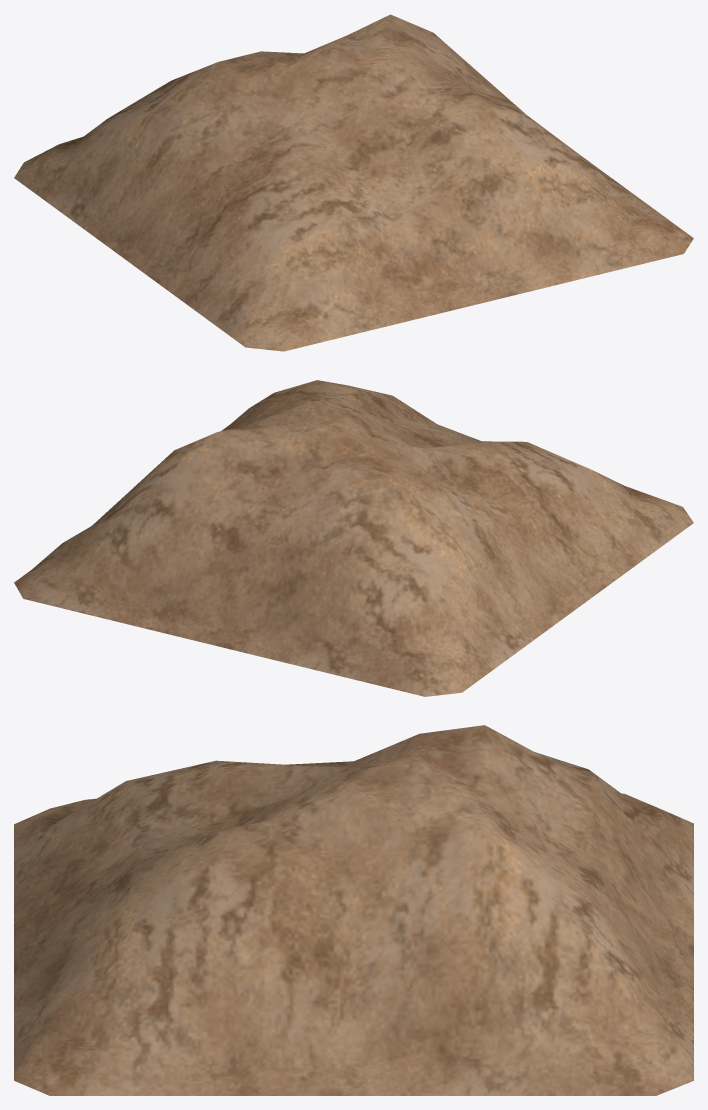
File: Sand slide 1.fbx
The picture shows the model from 3 angles, top to bottom: view 1: azimuth 30°, elevation 25°; view 2: azimuth 150°, elevation 25°; view 3: azimuth 270°, elevation 25°; orthographic projection. The views are drawn at different scales.
Visible parts, largest first — view 1: Deslizamento 1; view 2: Deslizamento 1; view 3: Deslizamento 1.
Part boxes in pixels (left/top/right/bottom): Deslizamento 1: left=14, top=14, right=693, bottom=351; Deslizamento 1: left=14, top=380, right=693, bottom=696; Deslizamento 1: left=14, top=725, right=693, bottom=1095.
Bounding box in the file's own units: 627 × 194 × 627.
